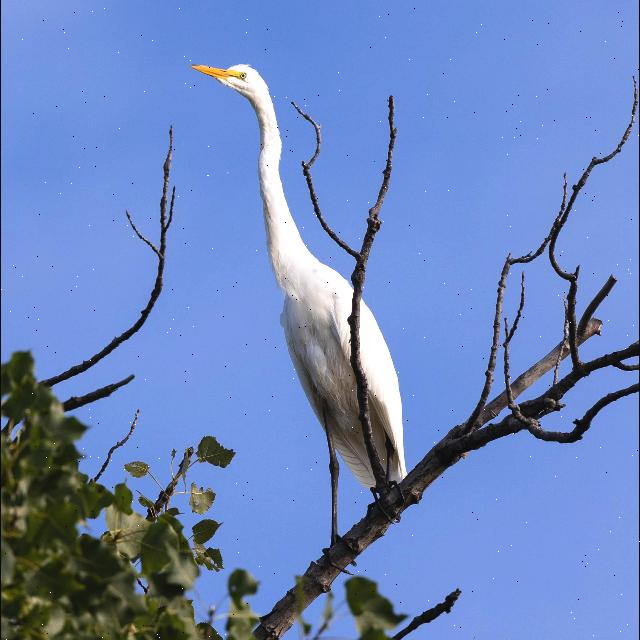egret: (187, 46, 439, 562)
